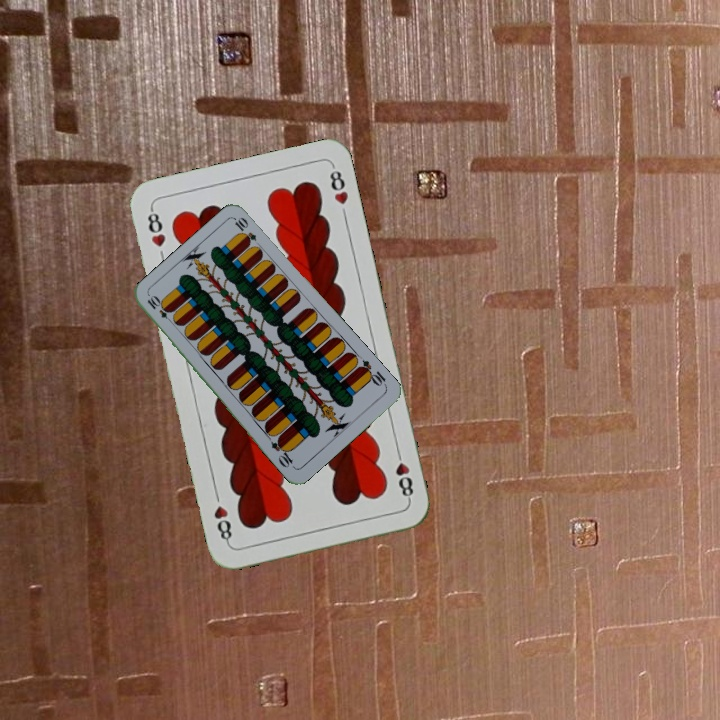E10: (143, 292, 177, 326), (354, 356, 389, 389)
H8: (391, 445, 416, 504), (143, 204, 169, 250)
